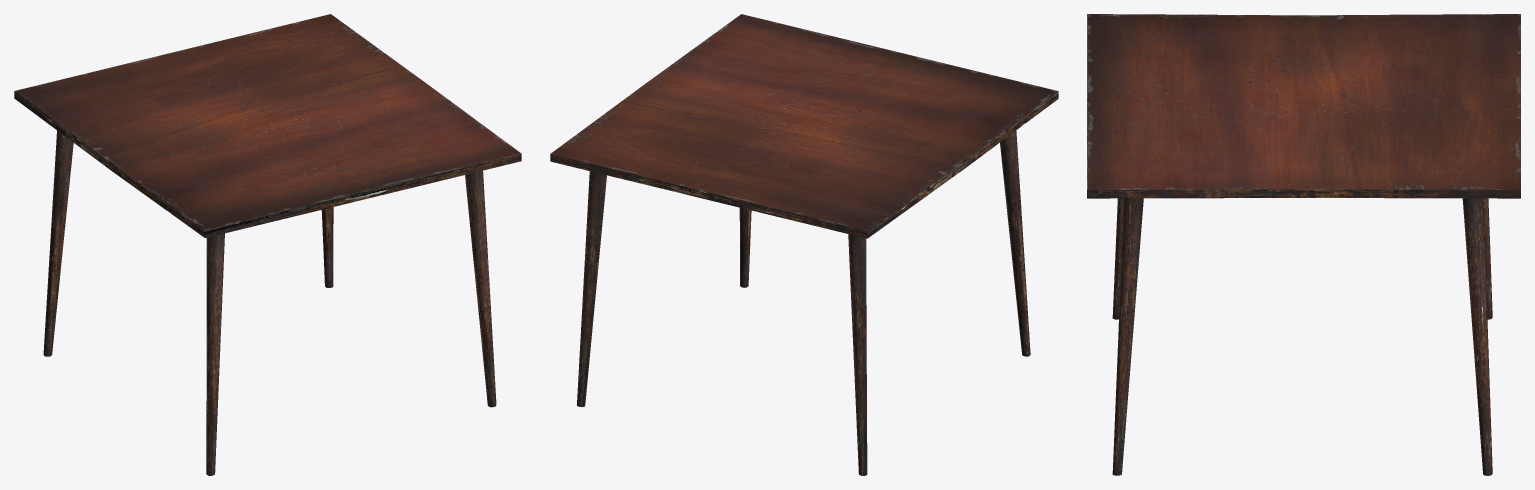
Rendered from Stol_02.FBX.
3 views of the same model, side by side, from view 1: azimuth 30°, elevation 25°; view 2: azimuth 150°, elevation 25°; view 3: azimuth 270°, elevation 25° (orthographic). The views are drawn at different scales.
Visible parts, largest first — view 1: Stol_02; view 2: Stol_02; view 3: Stol_02.
Part boxes in pixels (x1,y1,x2,y2): Stol_02: (14, 14, 521, 475); Stol_02: (550, 14, 1058, 475); Stol_02: (1087, 14, 1520, 475).
Size of the model in its own units: 0.9383 by 0.7377 by 0.9794.
